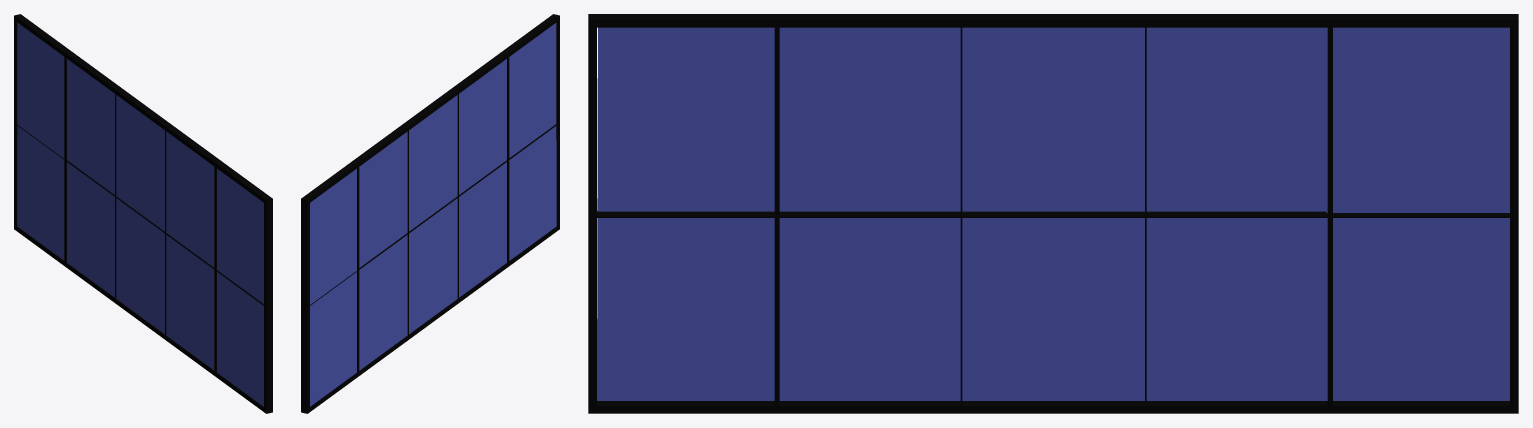
File: office window.fbx
The picture shows the model from 3 angles, left to right: view 1: azimuth 30°, elevation 25°; view 2: azimuth 150°, elevation 25°; view 3: azimuth 270°, elevation 25°; orthographic projection. The views are drawn at different scales.
Visible parts, largest first — view 1: Plane.001, Plane; view 2: Plane.001, Plane; view 3: Plane.001, Plane.
Boxes of the visible parts, <box> form: Plane.001: <box>17,22,263,406</box>; Plane: <box>14,14,272,413</box>; Plane.001: <box>310,23,556,406</box>; Plane: <box>301,14,559,413</box>; Plane.001: <box>597,27,1509,400</box>; Plane: <box>588,14,1518,413</box>.
Size of the model in its own units: 29.31 by 916 by 1961.
